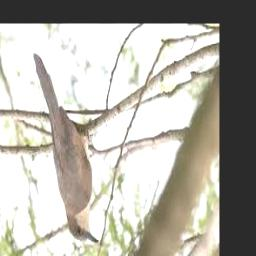Cuckoo: (33, 54, 98, 243)
